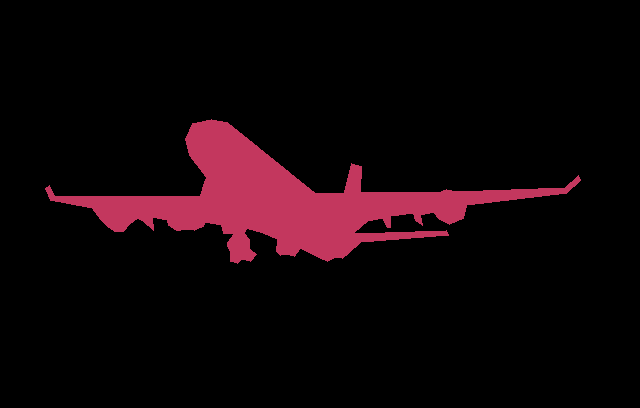Airplane: (45, 119, 580, 263)
